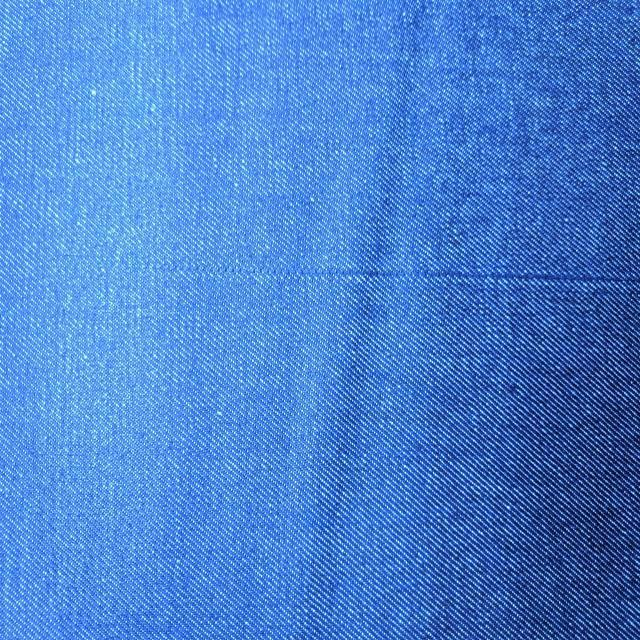Line: (85, 253, 640, 293)
